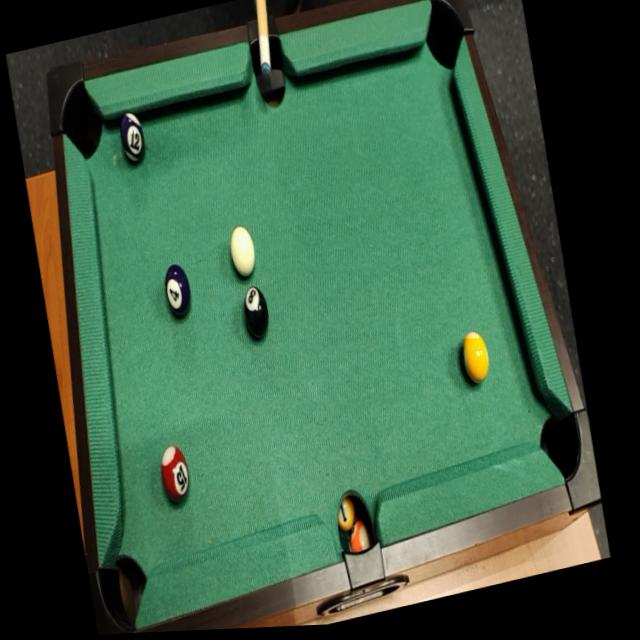cue ball: (223, 221, 261, 283)
other: (153, 441, 196, 508), (236, 281, 278, 346), (455, 325, 496, 391), (157, 258, 197, 324), (112, 103, 151, 169)
